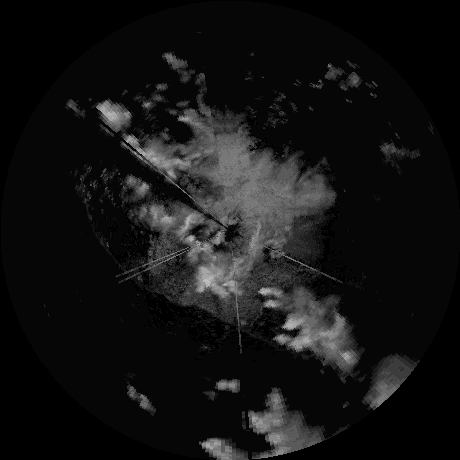frontgust: (79, 176, 148, 290)
